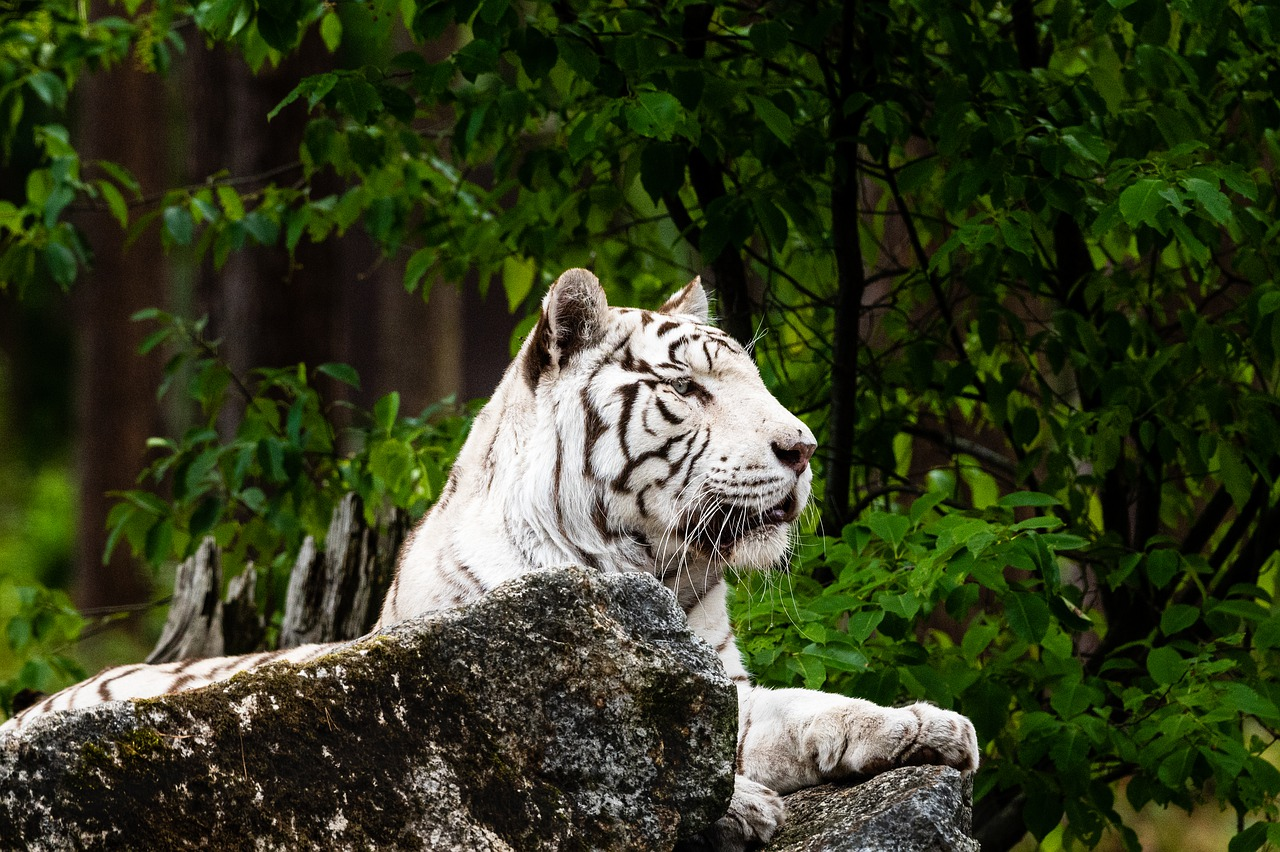tiger: (466, 233, 879, 579)
